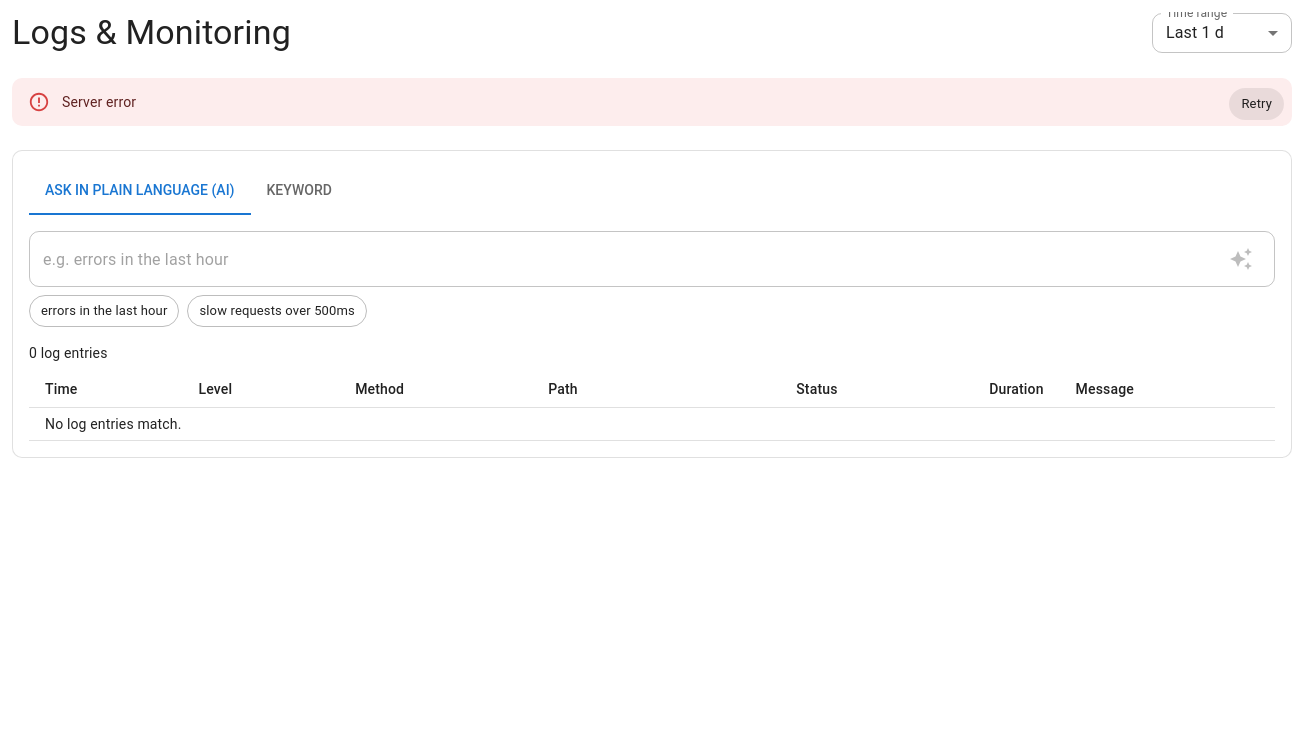
it: LogsPage › shows an empty table message and dashboard errors with Retry
The width and height of the screenshot is (1292, 732).
Expected: the text "No log entries match." is shown, [29,408,1275,440]
Expected: the text "Server error" is shown, [62,94,136,110]
Click the button "Retry". click: (1257, 104)
box: [1229,88,1284,120]
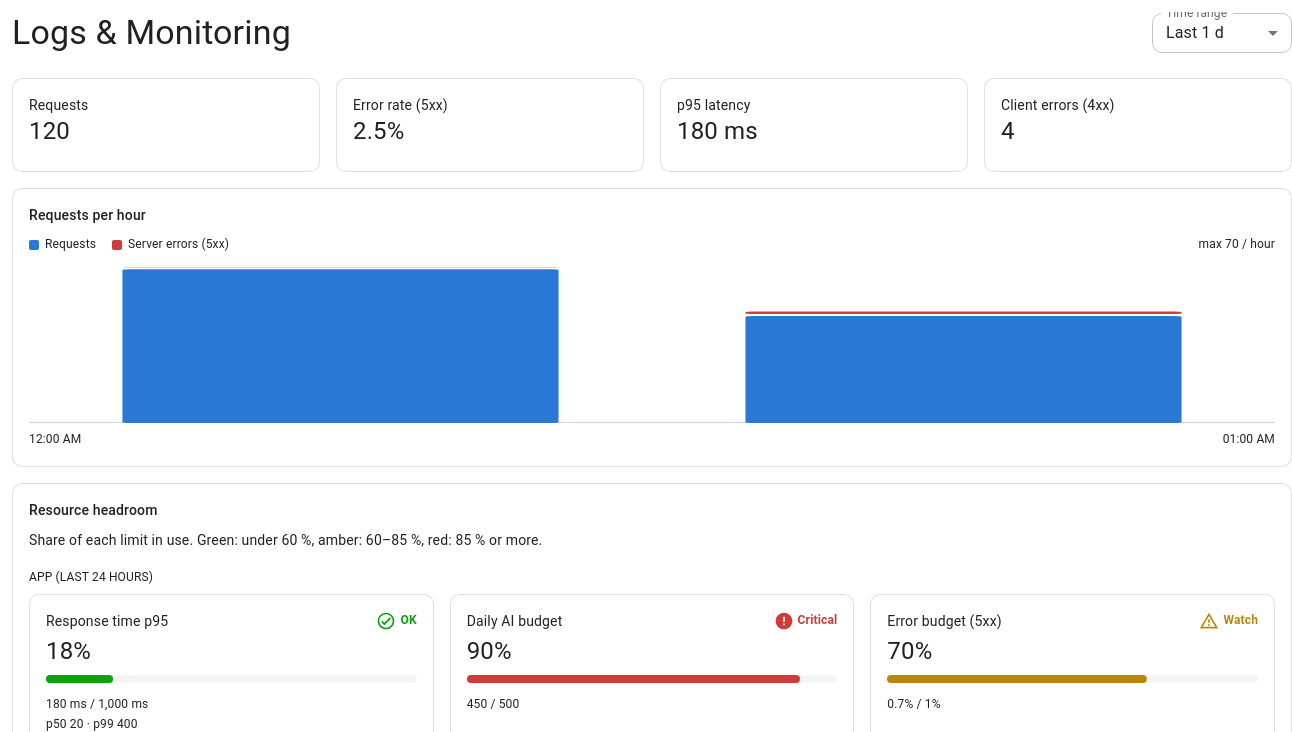
Expected: the text "120" is shown, [29,117,70,145]
